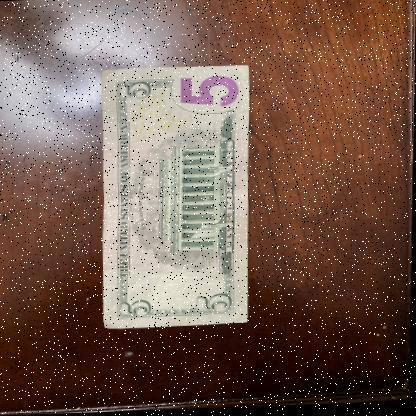dollar_back: (98, 66, 252, 330)
